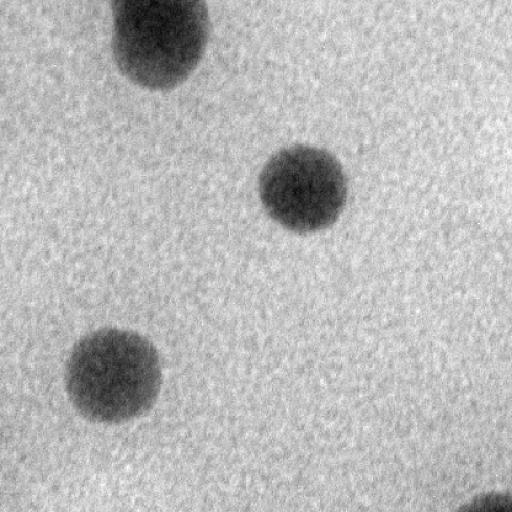Nanoparticles: (62, 324, 165, 424), (109, 0, 212, 90), (256, 143, 350, 231), (455, 492, 512, 511)
